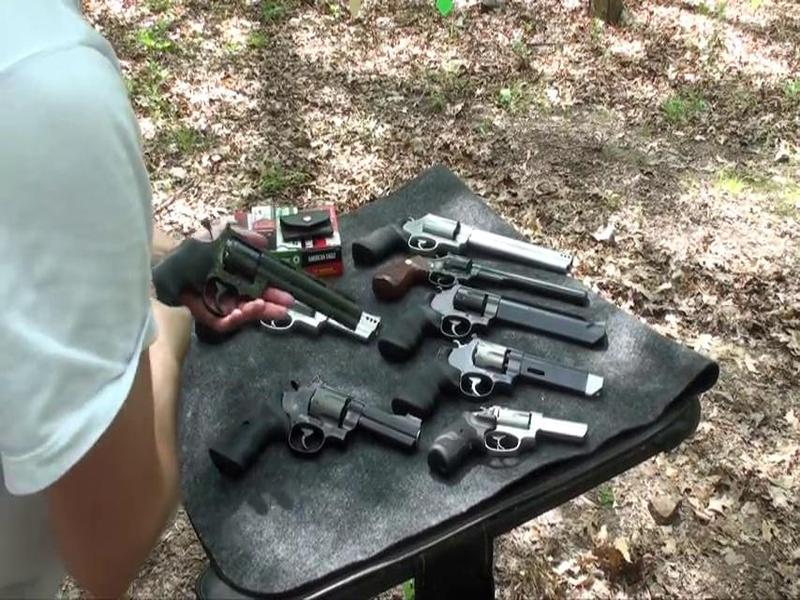Revolver: (157, 216, 375, 355)
